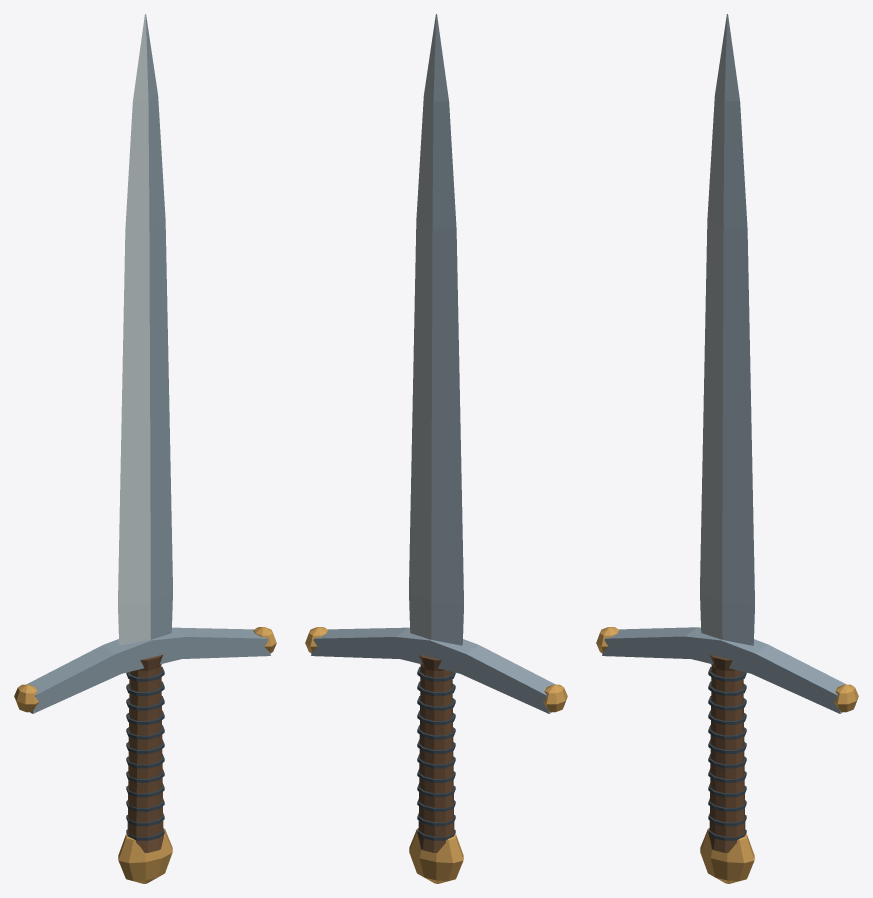
File: sword.glb
3 views of the same model, side by side, from view 1: azimuth 30°, elevation 25°; view 2: azimuth 150°, elevation 25°; view 3: azimuth 330°, elevation 25° (orthographic).
Visible parts, largest first — view 1: Sword_mesh; view 2: Sword_mesh; view 3: Sword_mesh.
Boxes of the visible parts, x1,y1,x2,y2 form: Sword_mesh: (14, 14, 276, 883); Sword_mesh: (305, 14, 567, 883); Sword_mesh: (596, 14, 858, 883).
Bounding box in the file's own units: 0.448 × 1.44 × 0.0514.
